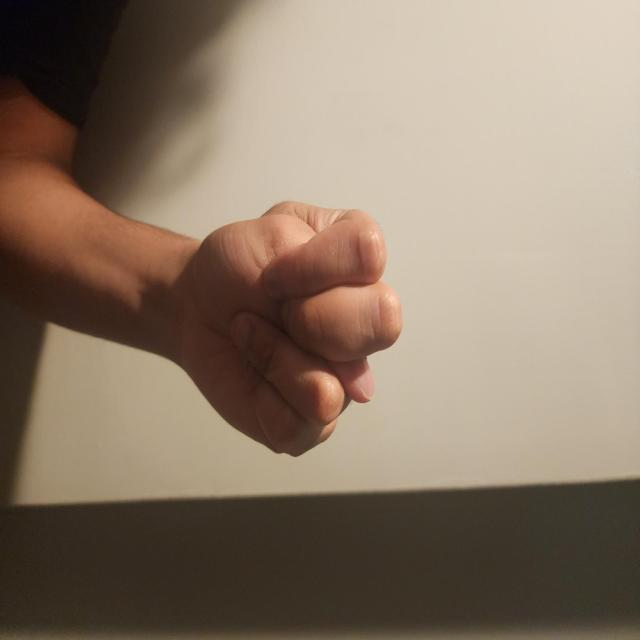N: (303, 304, 508, 634)
